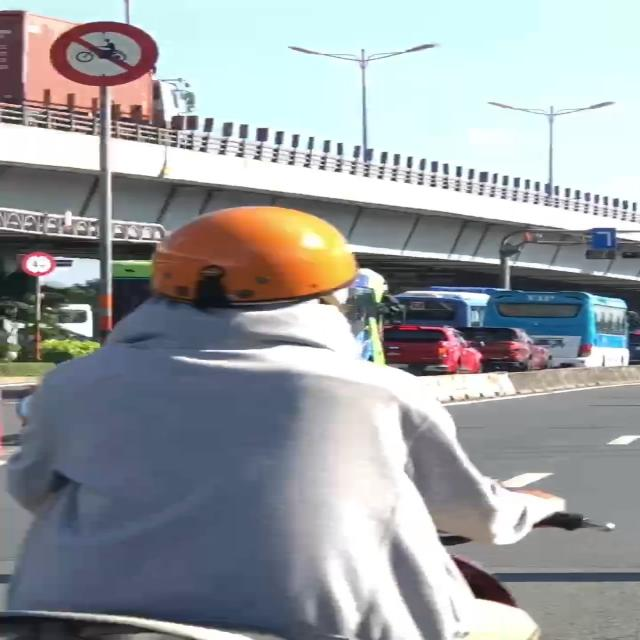Bien bao cam xe may: (52, 18, 173, 89)
